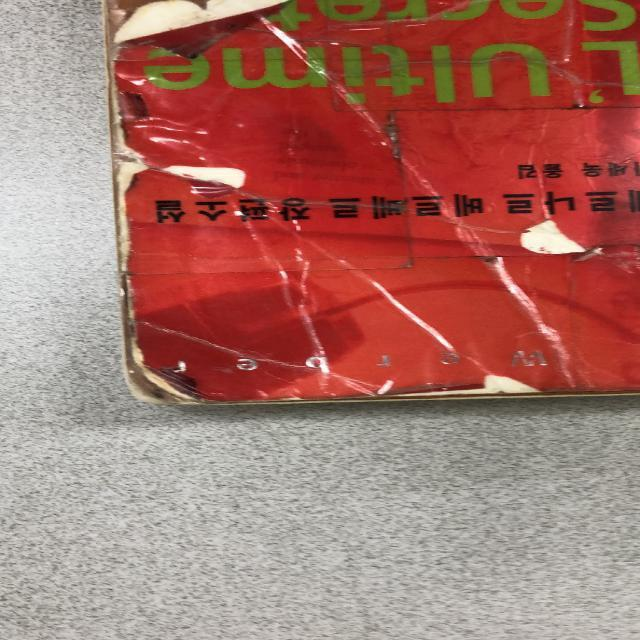Ripped: (111, 146, 154, 175)
Wornout: (101, 1, 297, 61), (376, 374, 542, 399), (123, 361, 200, 405), (516, 216, 589, 257), (160, 163, 251, 190), (200, 392, 376, 405), (113, 175, 135, 273), (105, 48, 127, 146), (118, 272, 140, 336), (541, 386, 639, 400), (573, 246, 610, 264), (128, 336, 150, 361)
